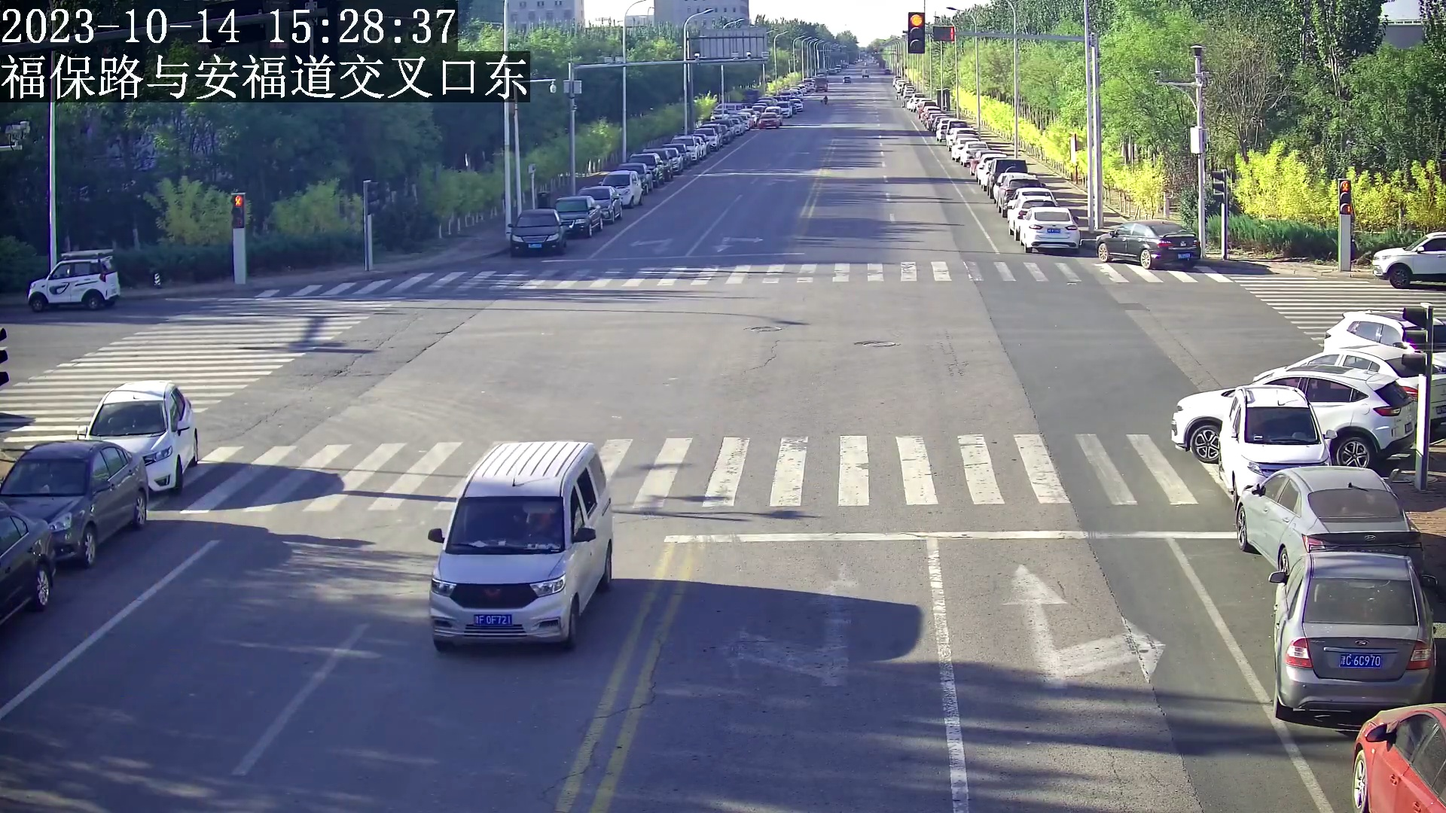vehicle: (428, 437, 618, 643), (1271, 553, 1434, 717), (1173, 364, 1414, 467), (5, 438, 149, 562), (1234, 463, 1419, 558), (81, 380, 200, 486), (1351, 702, 1444, 811), (1221, 387, 1326, 478), (26, 248, 119, 312), (1095, 218, 1200, 267), (1371, 228, 1446, 285), (1017, 206, 1081, 251), (507, 206, 567, 254), (554, 195, 604, 236)
